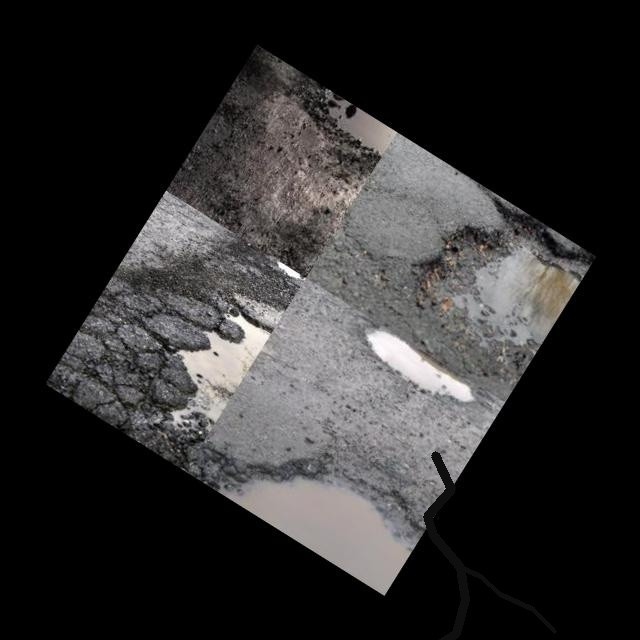road_crack: (414, 445, 478, 640)
